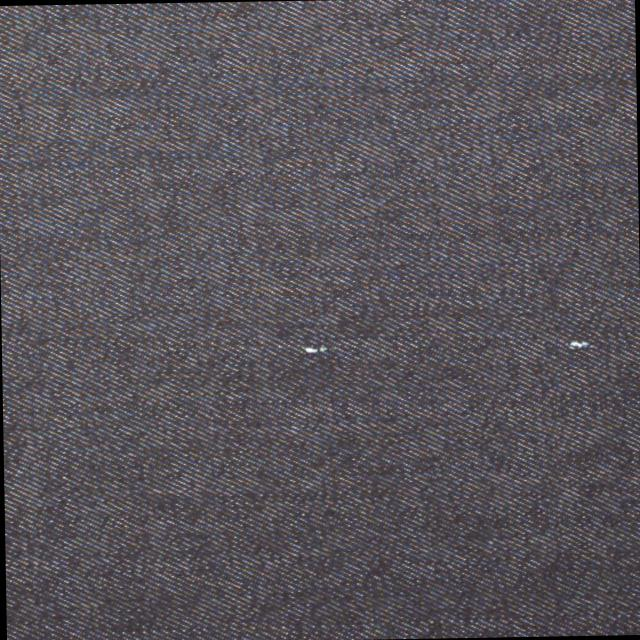Thread: (300, 343, 330, 354), (568, 338, 592, 349)
